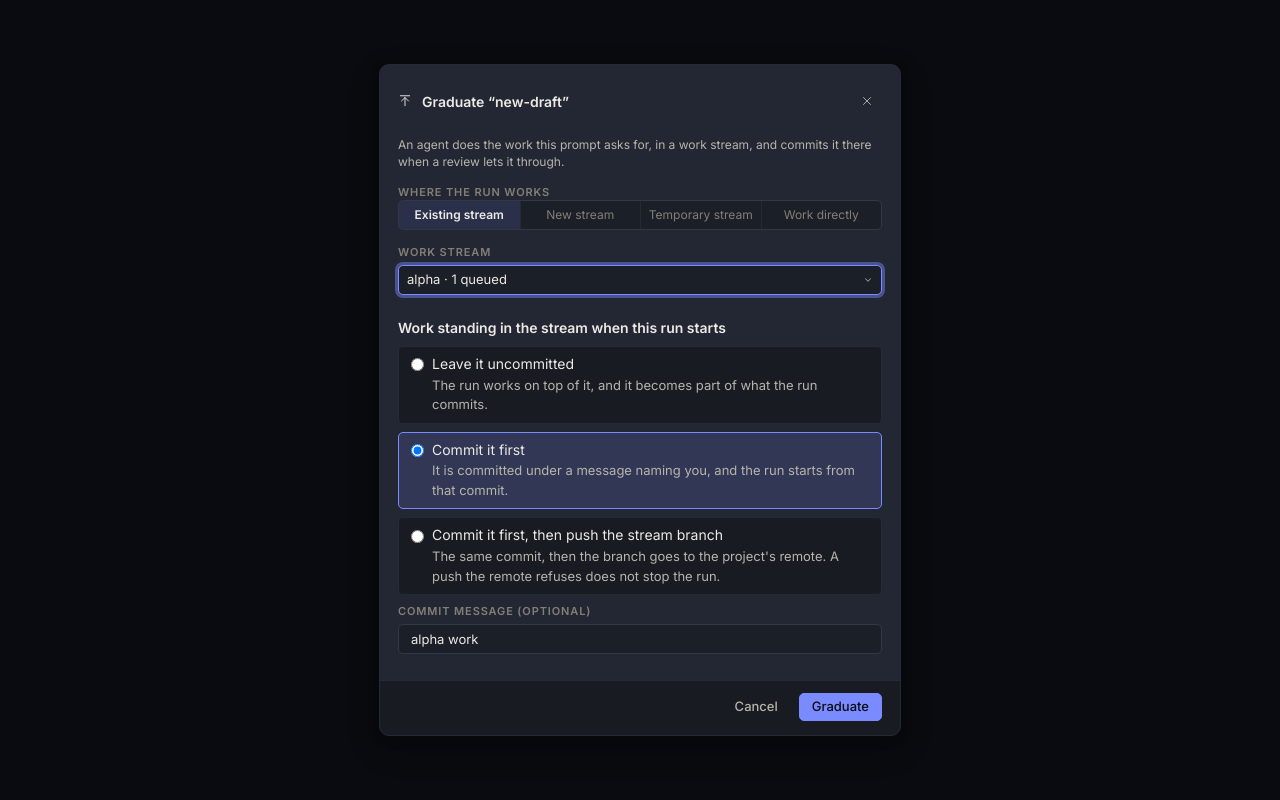
Scenario: the commit message of a start on an existing stream › GSD-FR-HVDN: another existing stream replaces the field, also where the author edited it
Replace the text in the field labelled "Commit message (optional)" with "my own words" at (640,639), box [398, 624, 882, 654]
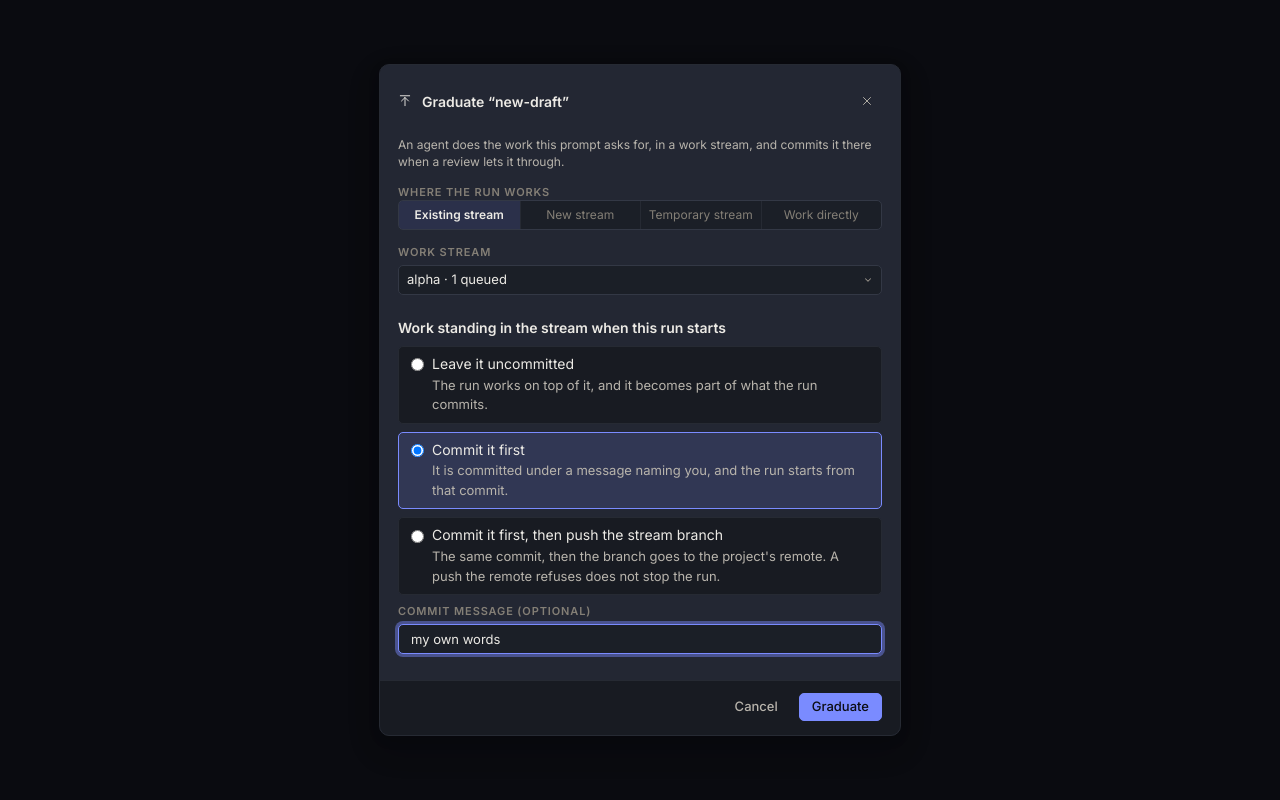
Select "beta · 1 queued" in the dropdown labelled "Work stream" at (640,280), box [398, 265, 882, 295]
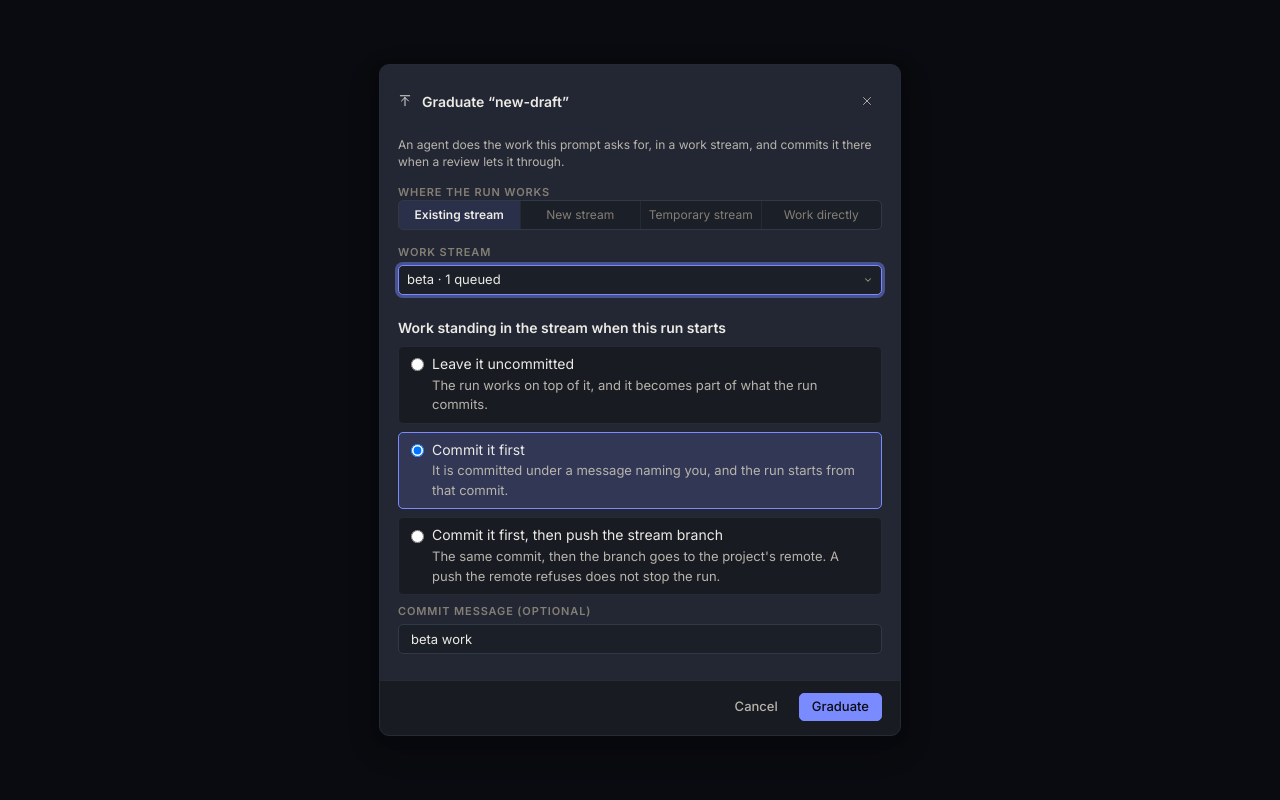
Now the field labelled "Commit message (optional)" holds "beta work", box [398, 624, 882, 654]
Select "alpha · 1 queued" in the dropdown labelled "Work stream" at (640,280), box [398, 265, 882, 295]
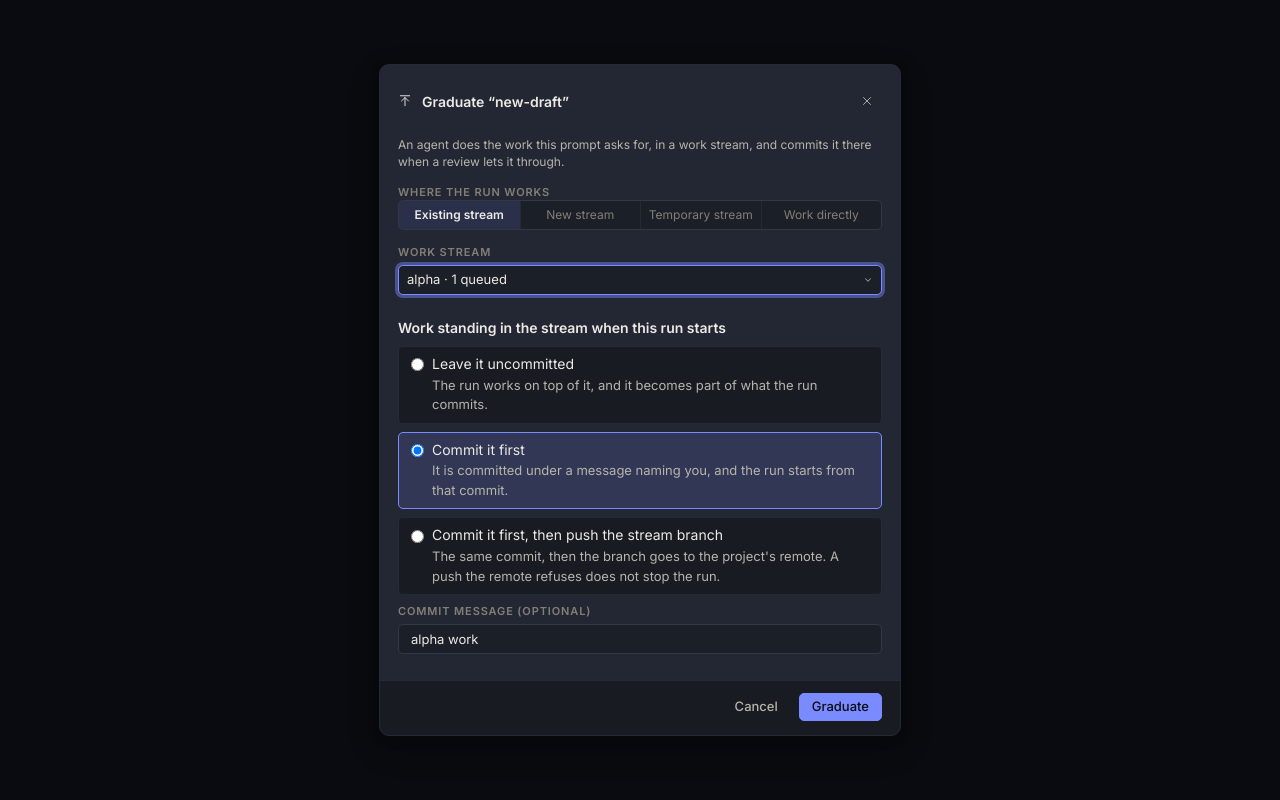
Now the field labelled "Commit message (optional)" holds "alpha work", box [398, 624, 882, 654]
